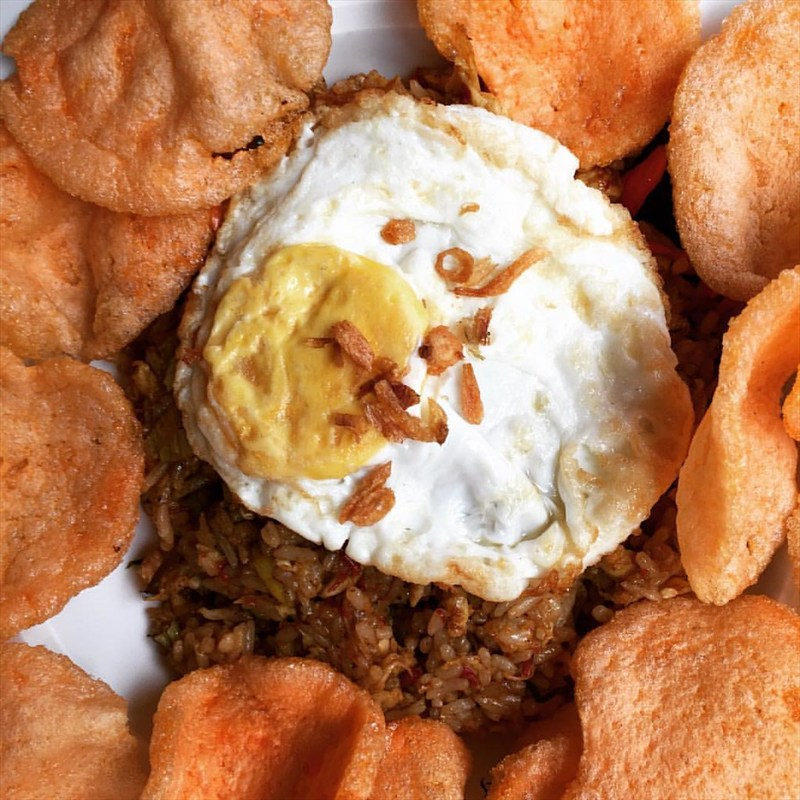Nasi Goreng: (122, 72, 708, 688)
